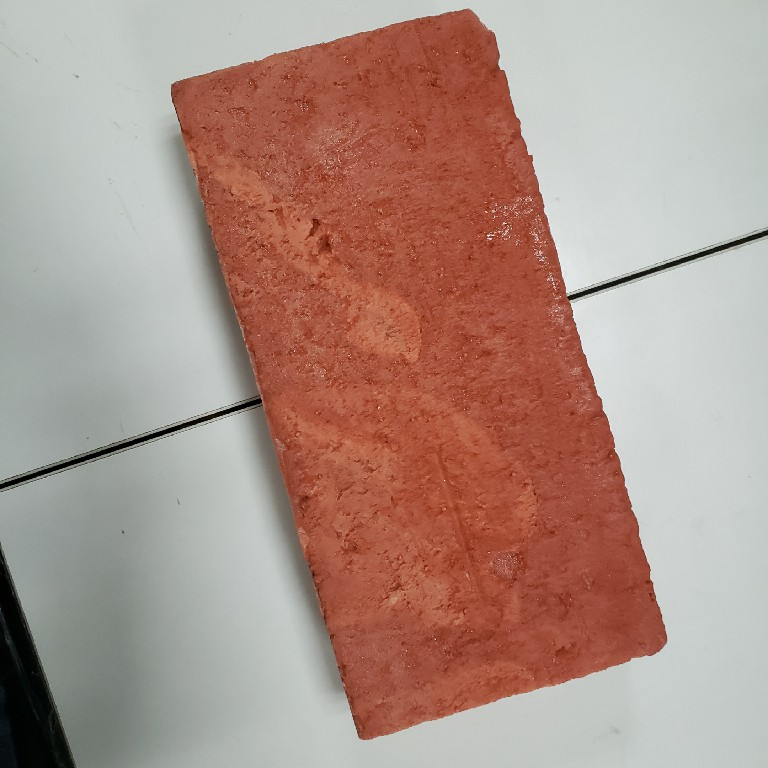brick: (164, 5, 672, 747)
